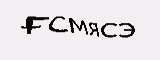А: (115, 24, 129, 45)
В: (78, 25, 90, 46)
М: (56, 26, 76, 43)
Ш: (32, 22, 54, 39)
Ю: (92, 27, 112, 46)
